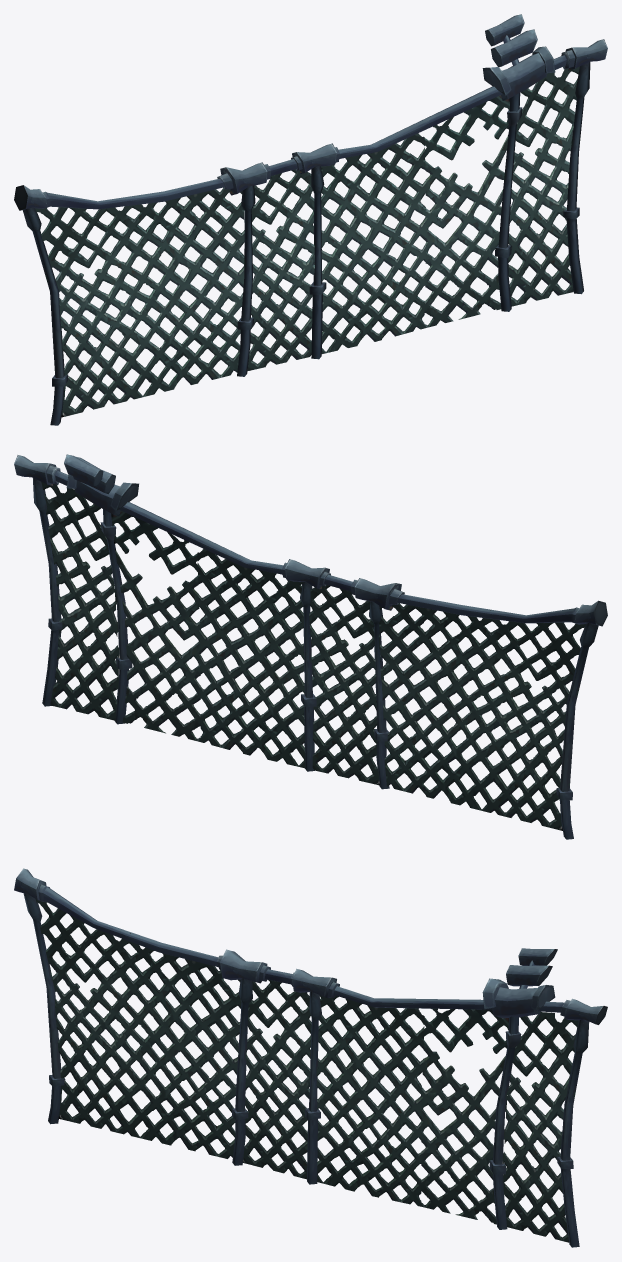
Rendered from mesh_Pt_sewb_props_14.FBX.
3 renders of one model, top to bottom at view 1: azimuth 30°, elevation 25°; view 2: azimuth 150°, elevation 25°; view 3: azimuth 330°, elevation 25°, orthographic.
Parts seen in each view (by area): view 1: polySurface258; view 2: polySurface258; view 3: polySurface258.
Boxes of the visible parts, left/top/right/bottom form: polySurface258: left=14, top=14, right=607, bottom=425; polySurface258: left=14, top=454, right=607, bottom=839; polySurface258: left=14, top=868, right=607, bottom=1247.
Bounding box in the file's own units: 0.2446 × 0.1113 × 0.0236.
